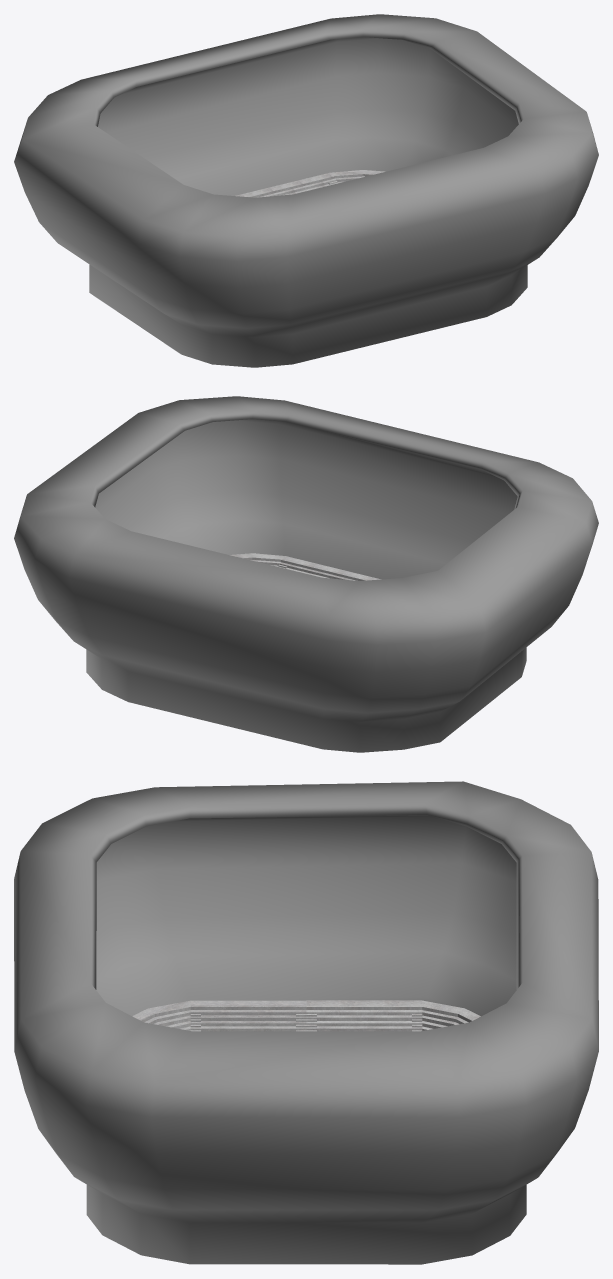
The model's file is full arena witho closure.FBX.
The picture shows the model from 3 angles, top to bottom: view 1: azimuth 30°, elevation 25°; view 2: azimuth 150°, elevation 25°; view 3: azimuth 270°, elevation 25°; orthographic projection. The views are drawn at different scales.
Visible parts, largest first — view 1: outer arena 002, side bleecher 001; view 2: outer arena 002, side bleecher 002; view 3: outer arena 002, front bleechers.
Boxes of the visible parts, x1,y1,x2,y2 form: outer arena 002: [14, 14, 598, 367]; side bleecher 001: [235, 172, 337, 197]; outer arena 002: [14, 396, 598, 752]; side bleecher 002: [278, 556, 381, 580]; outer arena 002: [14, 781, 598, 1264]; front bleechers: [132, 1000, 480, 1031].
Size of the model in its own units: 525 by 182 by 418.
5 materials, 3 textured.
